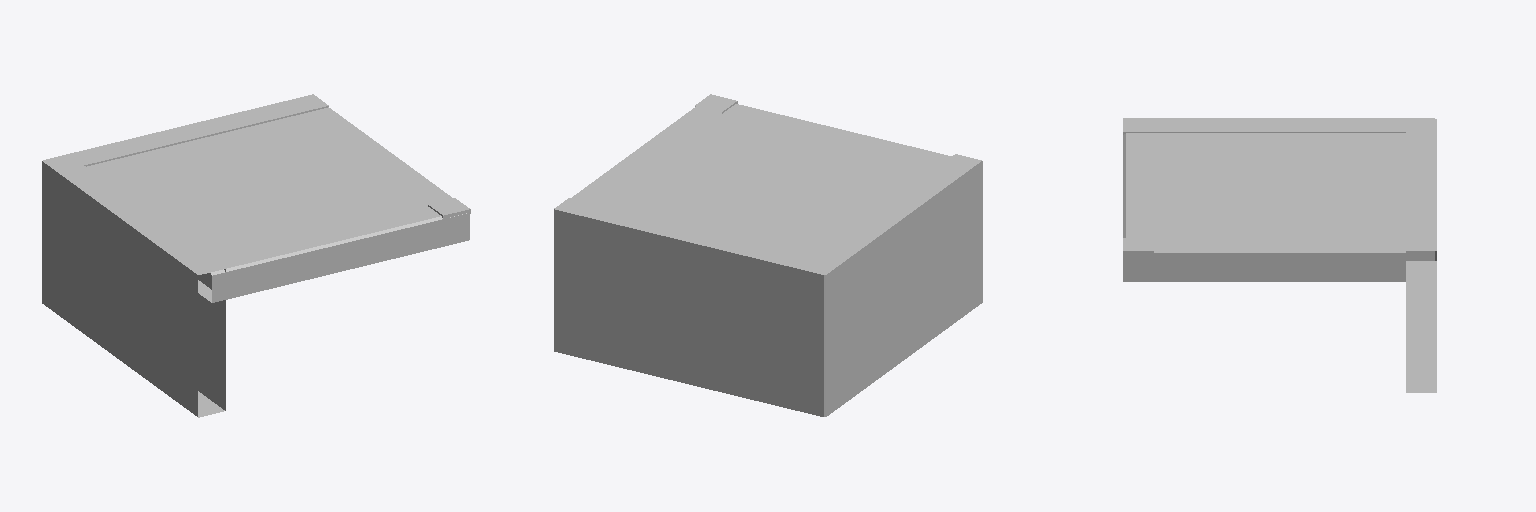
The model's file is Stairs_Exterior_Platform45.obj.
The picture shows the model from 3 angles: view 1: azimuth 30°, elevation 25°; view 2: azimuth 150°, elevation 25°; view 3: azimuth 270°, elevation 25°; orthographic projection.
Visible parts, largest first — view 1: Stairs_Exterior_Platform45; view 2: Stairs_Exterior_Platform45; view 3: Stairs_Exterior_Platform45.
Boxes of the visible parts, x1=… form: Stairs_Exterior_Platform45: x1=42, y1=94, x2=470, y2=417; Stairs_Exterior_Platform45: x1=554, y1=94, x2=982, y2=416; Stairs_Exterior_Platform45: x1=1123, y1=118, x2=1436, y2=392.
Size of the model in its own units: 2 by 1 by 2.